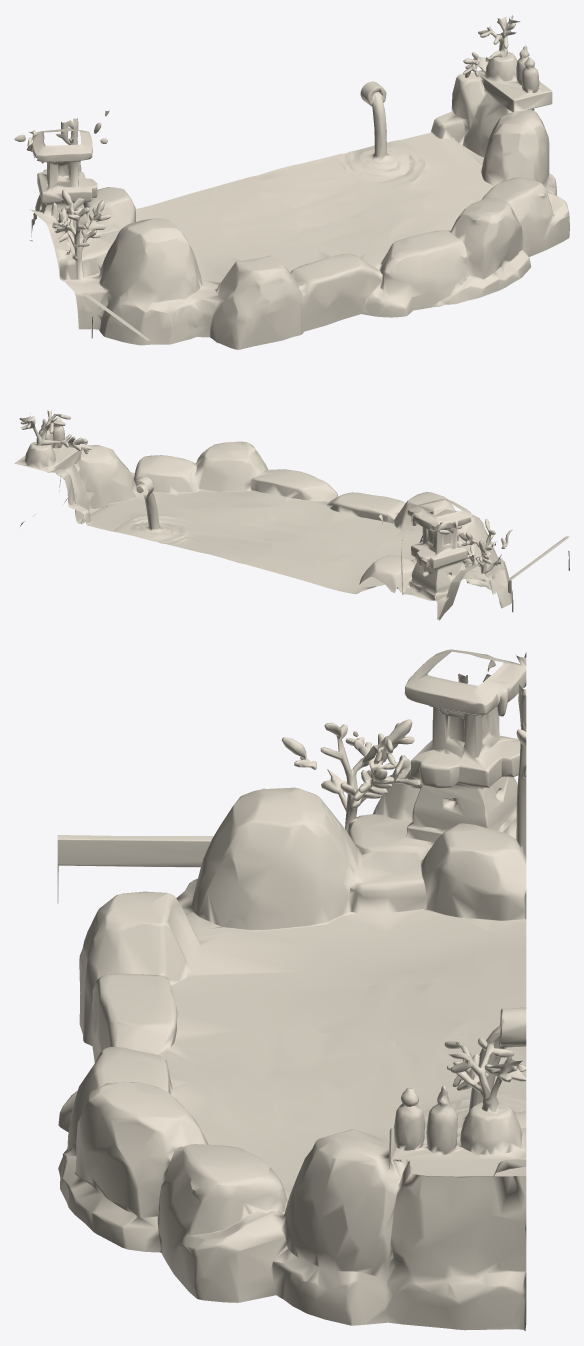
File: spa_pool.glb
The picture shows the model from 3 angles, top to bottom: view 1: azimuth 30°, elevation 25°; view 2: azimuth 150°, elevation 25°; view 3: azimuth 270°, elevation 25°; orthographic projection. The views are drawn at different scales.
Bounding box in the file's own units: 1.09 × 0.31 × 0.5033.
